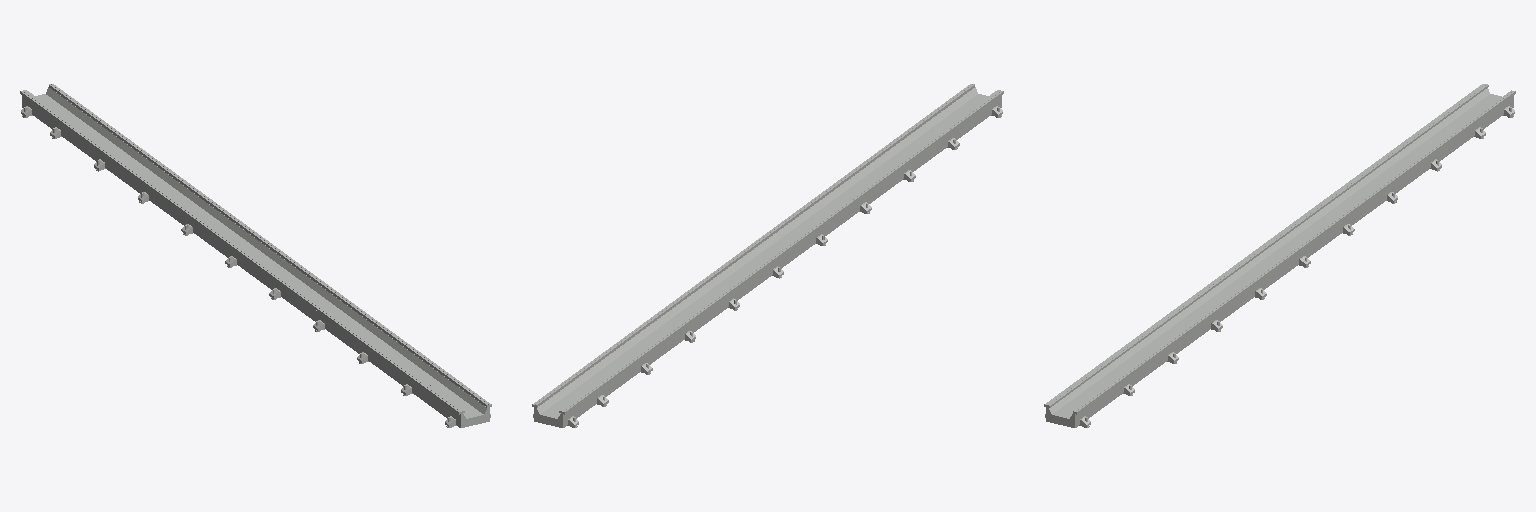
The robot description file, URDF, robot "gudel_tmf2_single":
<?xml version="1.0" encoding="utf-8"?>
<!-- =================================================================================== -->
<!-- |    This document was autogenerated by xacro from gudel_tmf2_single.xacro        | -->
<!-- |    EDITING THIS FILE BY HAND IS NOT RECOMMENDED                                 | -->
<!-- =================================================================================== -->
<robot name="gudel_tmf2_single">
  <!-- link list -->
  <link name="base_link">
    <visual>
      <origin rpy="0 0 0" xyz="0 0 0"/>
      <geometry>
        <mesh filename="package://twc_support/CAD/rail/gudel_tmf2/urdf/visual/base_link.dae"/>
      </geometry>
    </visual>
    <collision>
      <origin rpy="0 0 0" xyz="0 0 0"/>
      <geometry>
        <mesh filename="package://twc_support/CAD/rail/gudel_tmf2/urdf/visual/base_link.dae"/>
      </geometry>
    </collision>
  </link>
  <link name="link_1">
    <visual>
      <origin rpy="0 0 0" xyz="0 0 0"/>
      <geometry>
        <mesh filename="package://twc_support/CAD/rail/gudel_tmf2/urdf/visual/link_1.dae"/>
      </geometry>
    </visual>
    <collision>
      <origin rpy="0 0 0" xyz="0 0 0"/>
      <geometry>
        <mesh filename="package://twc_support/CAD/rail/gudel_tmf2/urdf/visual/link_1.dae"/>
      </geometry>
    </collision>
  </link>
  <link name="tool0"/>
  <!-- end of link list -->
  <!-- joint list -->
  <joint name="joint_1" type="prismatic">
    <origin rpy="0 0 0" xyz="0 0 0"/>
    <parent link="base_link"/>
    <child link="link_1"/>
    <axis xyz="0 1 0"/>
    <limit effort="0" lower="0" upper="10" velocity="2.5"/>
  </joint>
  <joint name="joint_1_tool0" type="fixed">
    <origin rpy="0 0 0" xyz="0.125 0 0.340"/>
    <parent link="link_1"/>
    <child link="tool0"/>
  </joint>
  <!-- end of joint list -->
</robot>

--- Facts derived from the render (not from the file) ---
The picture shows the robot from 3 angles, left to right: view 1: azimuth 30°, elevation 25°; view 2: azimuth 150°, elevation 25°; view 3: azimuth 330°, elevation 25°; orthographic projection.
Model gudel_tmf2_single with 3 links and 2 joints (1 prismatic, 1 fixed), rooted at base_link, posed all joints at 0.
Visible links, largest first — view 1: base_link; view 2: base_link; view 3: base_link.
Link boxes in pixels (x1=…): base_link: x1=20, y1=84, x2=491, y2=427; base_link: x1=532, y1=84, x2=1003, y2=427; base_link: x1=1044, y1=84, x2=1515, y2=427.
Size in the robot's own frame: 0.6684 by 12 by 0.298 metres.
Meshes: 2 distinct files referenced, 1 mesh visuals loaded (1 Collada DAE); not drawn: 1 (reference not matched to a file when rendering).
